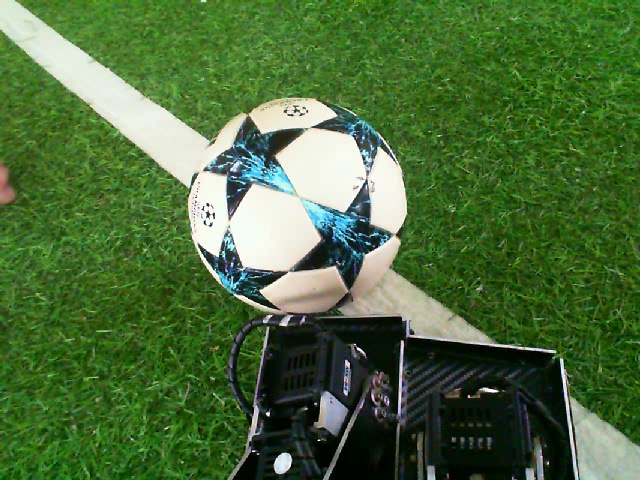ball: (185, 95, 410, 320)
